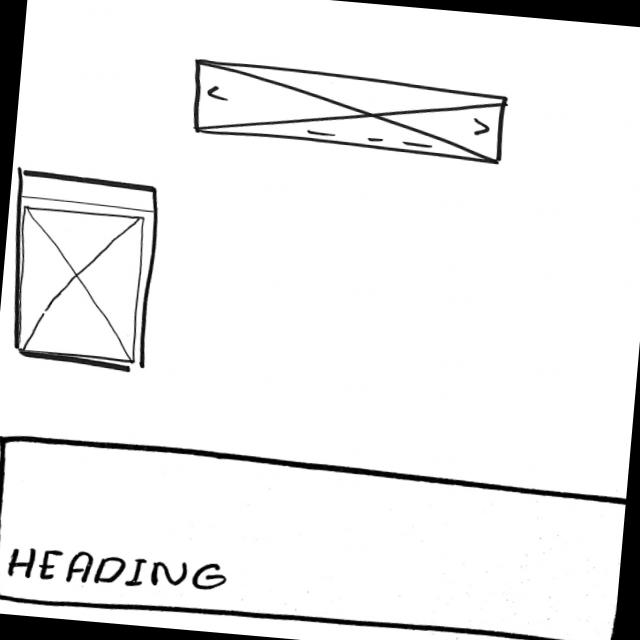container: (0, 430, 626, 640), (0, 167, 162, 372)
image: (185, 54, 512, 167), (9, 204, 148, 362)
label: (5, 542, 232, 598)
